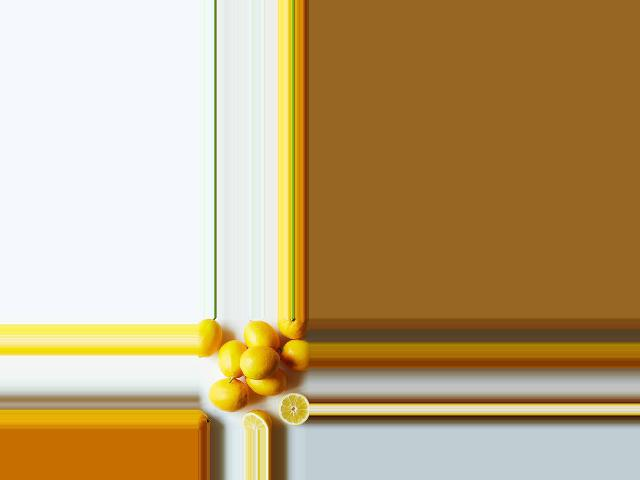lemon: (280, 339, 308, 369)
